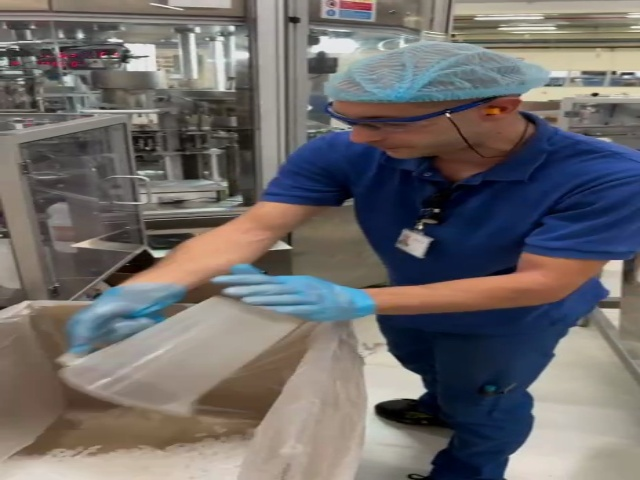Earplug: (475, 97, 521, 125)
Hairnet: (331, 44, 532, 101)
No_Helmet: (334, 44, 524, 100)
No_Vest: (301, 129, 640, 329)
Person: (197, 41, 639, 480)
Safety_Goggles: (322, 95, 528, 128)
